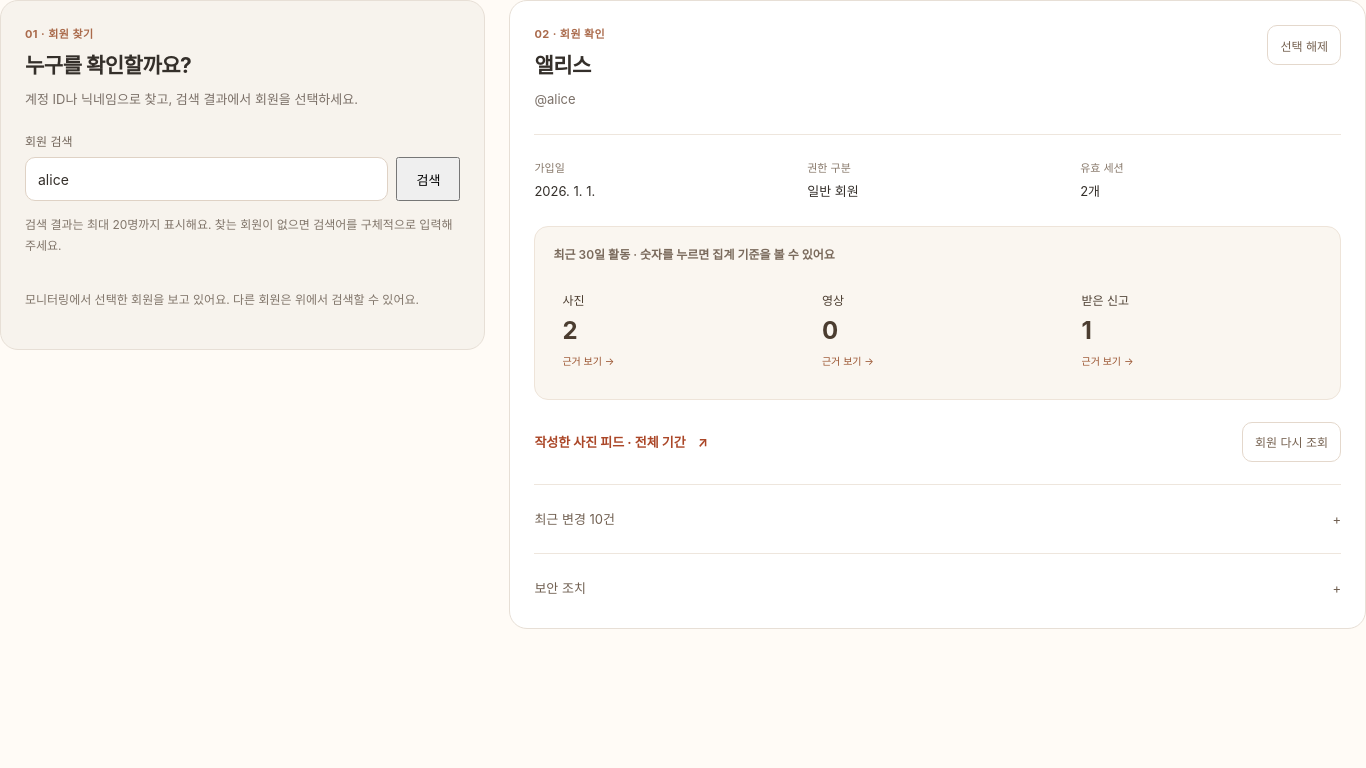
Test: activity metrics reveal their real 30-day basis and link to an exact photo author with bounded dates
Click the button with aria-label "사진 2건 집계 근거" at (678, 330), box [553,278,803,381]
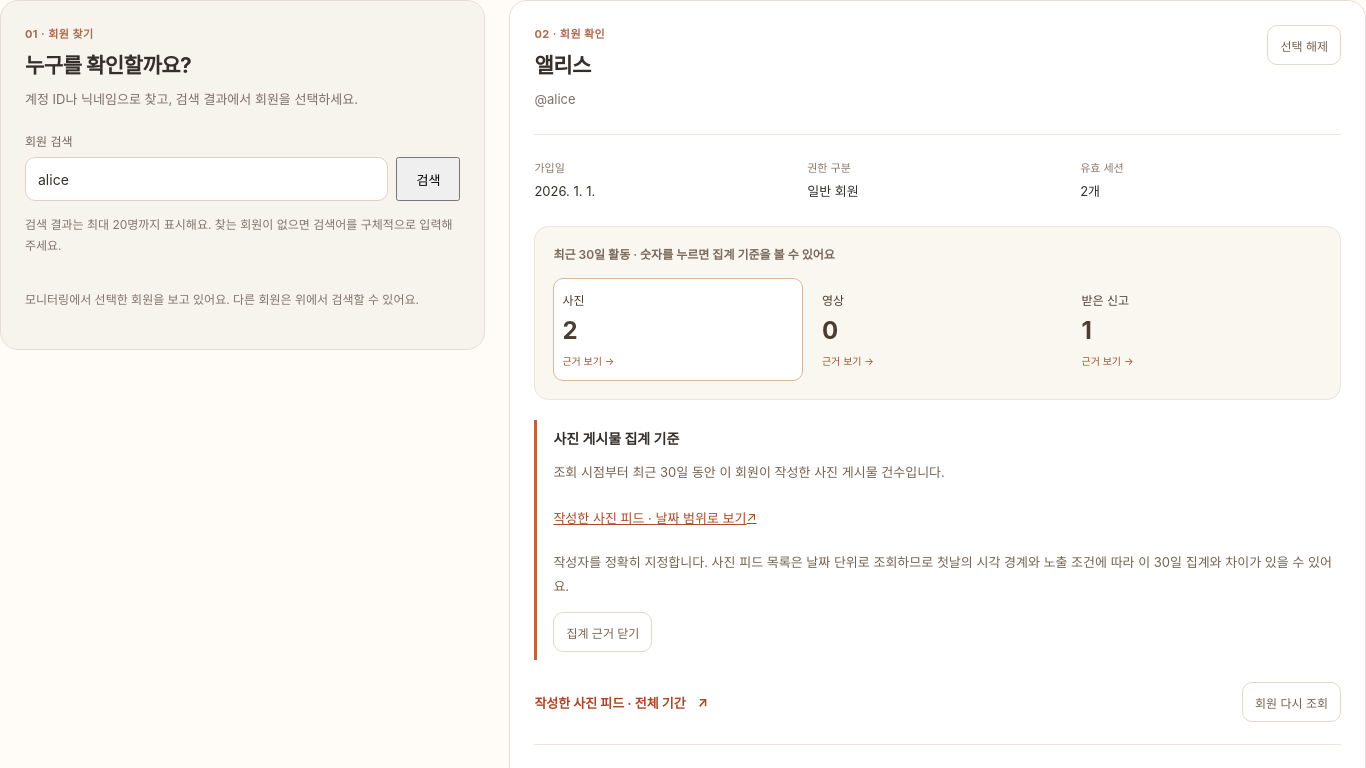
Expected: the text "조회 시점부터 최근 30일 동안 이 회원이 작성한 사진 게시물 건수입니다." is shown, [553,464,945,480]
Expected: the text "시각 경계와 노출 조건" is shown, [553,554,1332,594]
Click the button with aria-label "받은 신고 1건 집계 근거" at (1197, 330), box [1072,278,1322,381]
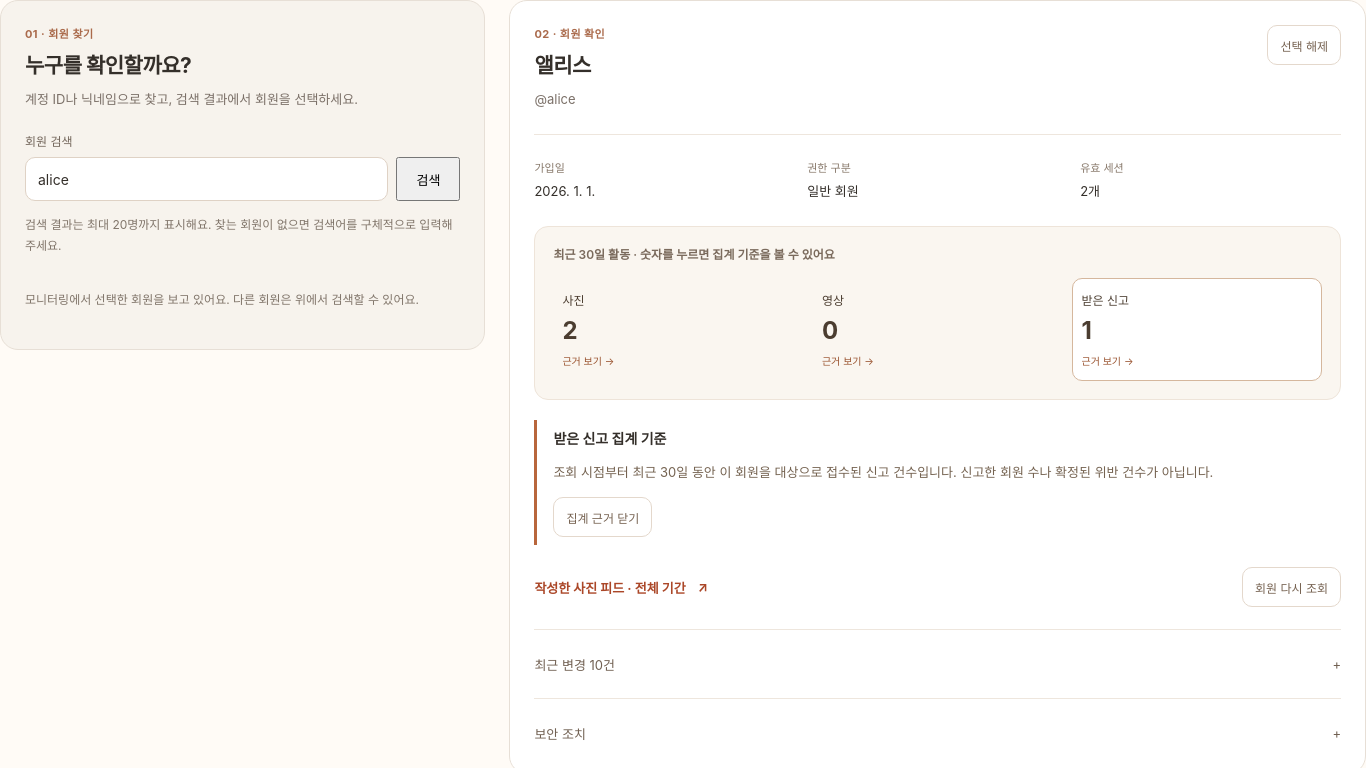
Expected: the text "확정된 위반 건수가 아닙니다" is shown, [720,464,1213,480]
Expected: the link "작성한 사진 피드 · 날짜 범위로 보기 ↗" is gone
